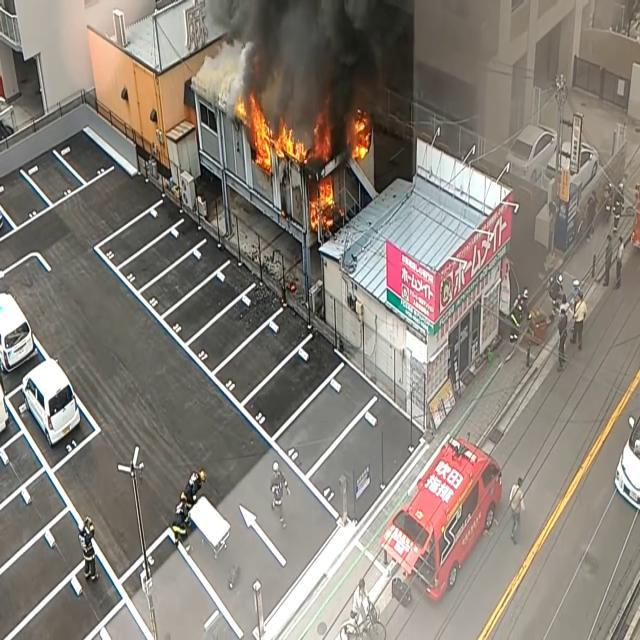Fire: (236, 95, 338, 228), (234, 94, 308, 174), (310, 170, 338, 232), (348, 109, 374, 162)
Smoke: (226, 0, 422, 120)
